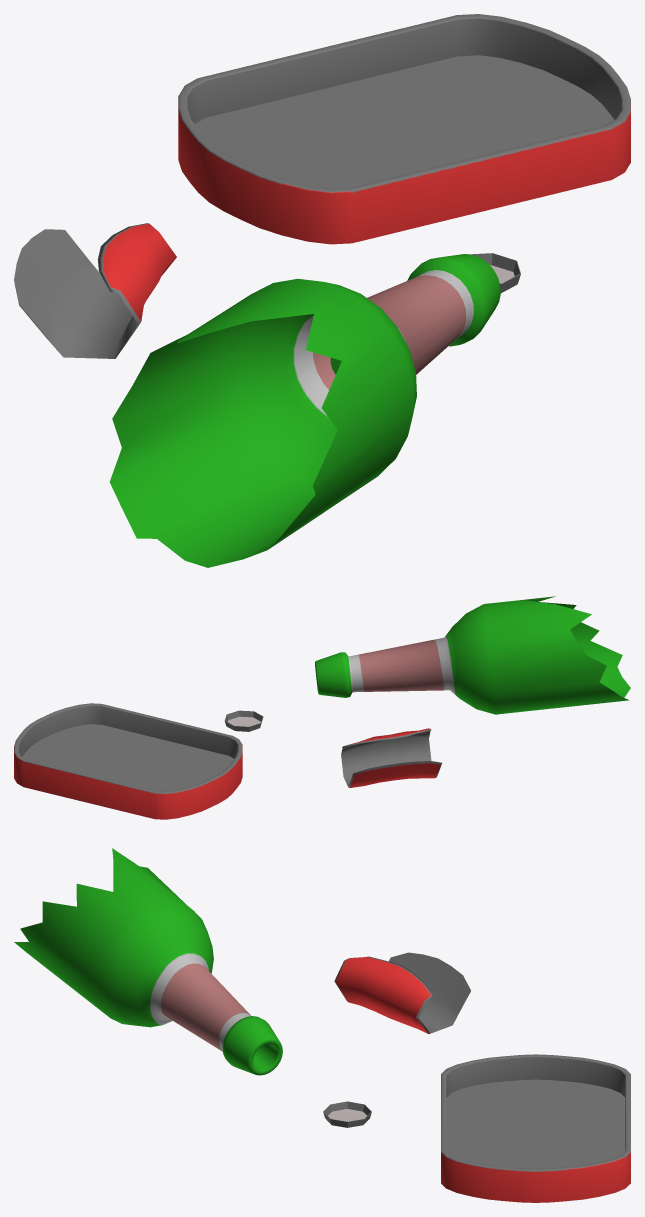
Rendered from TunaCan_smallSonstigesOnly.fbx.
The picture shows the model from 3 angles, top to bottom: view 1: azimuth 30°, elevation 25°; view 2: azimuth 150°, elevation 25°; view 3: azimuth 270°, elevation 25°; orthographic projection. The views are drawn at different scales.
Visible parts, largest first — view 1: Dose_lp.002, Dose_lp.005, Dose_lp.004, Dose_lp.003; view 2: Dose_lp.005, Dose_lp.002, Dose_lp.004, Dose_lp.003; view 3: Dose_lp.002, Dose_lp.005, Dose_lp.004, Dose_lp.003.
Part boxes in pixels (box(x1,y1,x2,y2)): Dose_lp.002: box(178, 14, 630, 244); Dose_lp.005: box(109, 254, 500, 567); Dose_lp.004: box(14, 223, 176, 358); Dose_lp.003: box(470, 253, 520, 293); Dose_lp.005: box(315, 596, 630, 714); Dose_lp.002: box(14, 703, 242, 819); Dose_lp.004: box(341, 728, 441, 787); Dose_lp.003: box(224, 710, 263, 731); Dose_lp.002: box(441, 1054, 630, 1202); Dose_lp.005: box(14, 848, 282, 1075); Dose_lp.004: box(334, 952, 470, 1033); Dose_lp.003: box(323, 1101, 371, 1127).
Size of the model in its own units: 11885 by 2890 by 12539.
